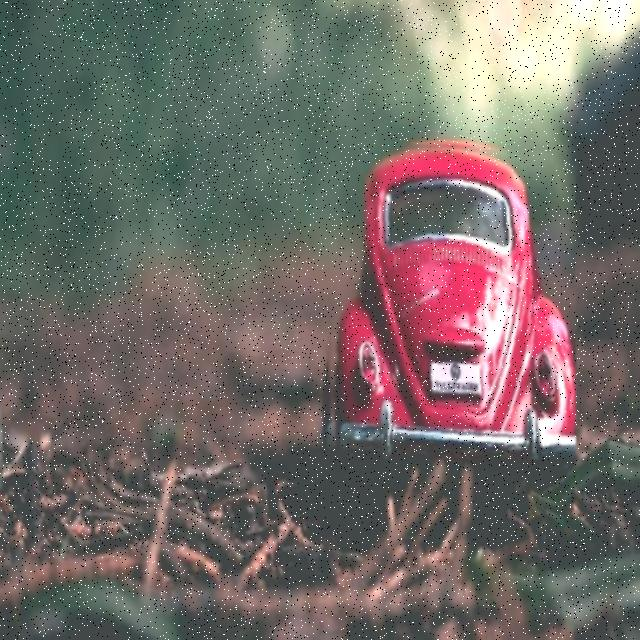car: (319, 139, 577, 460)
